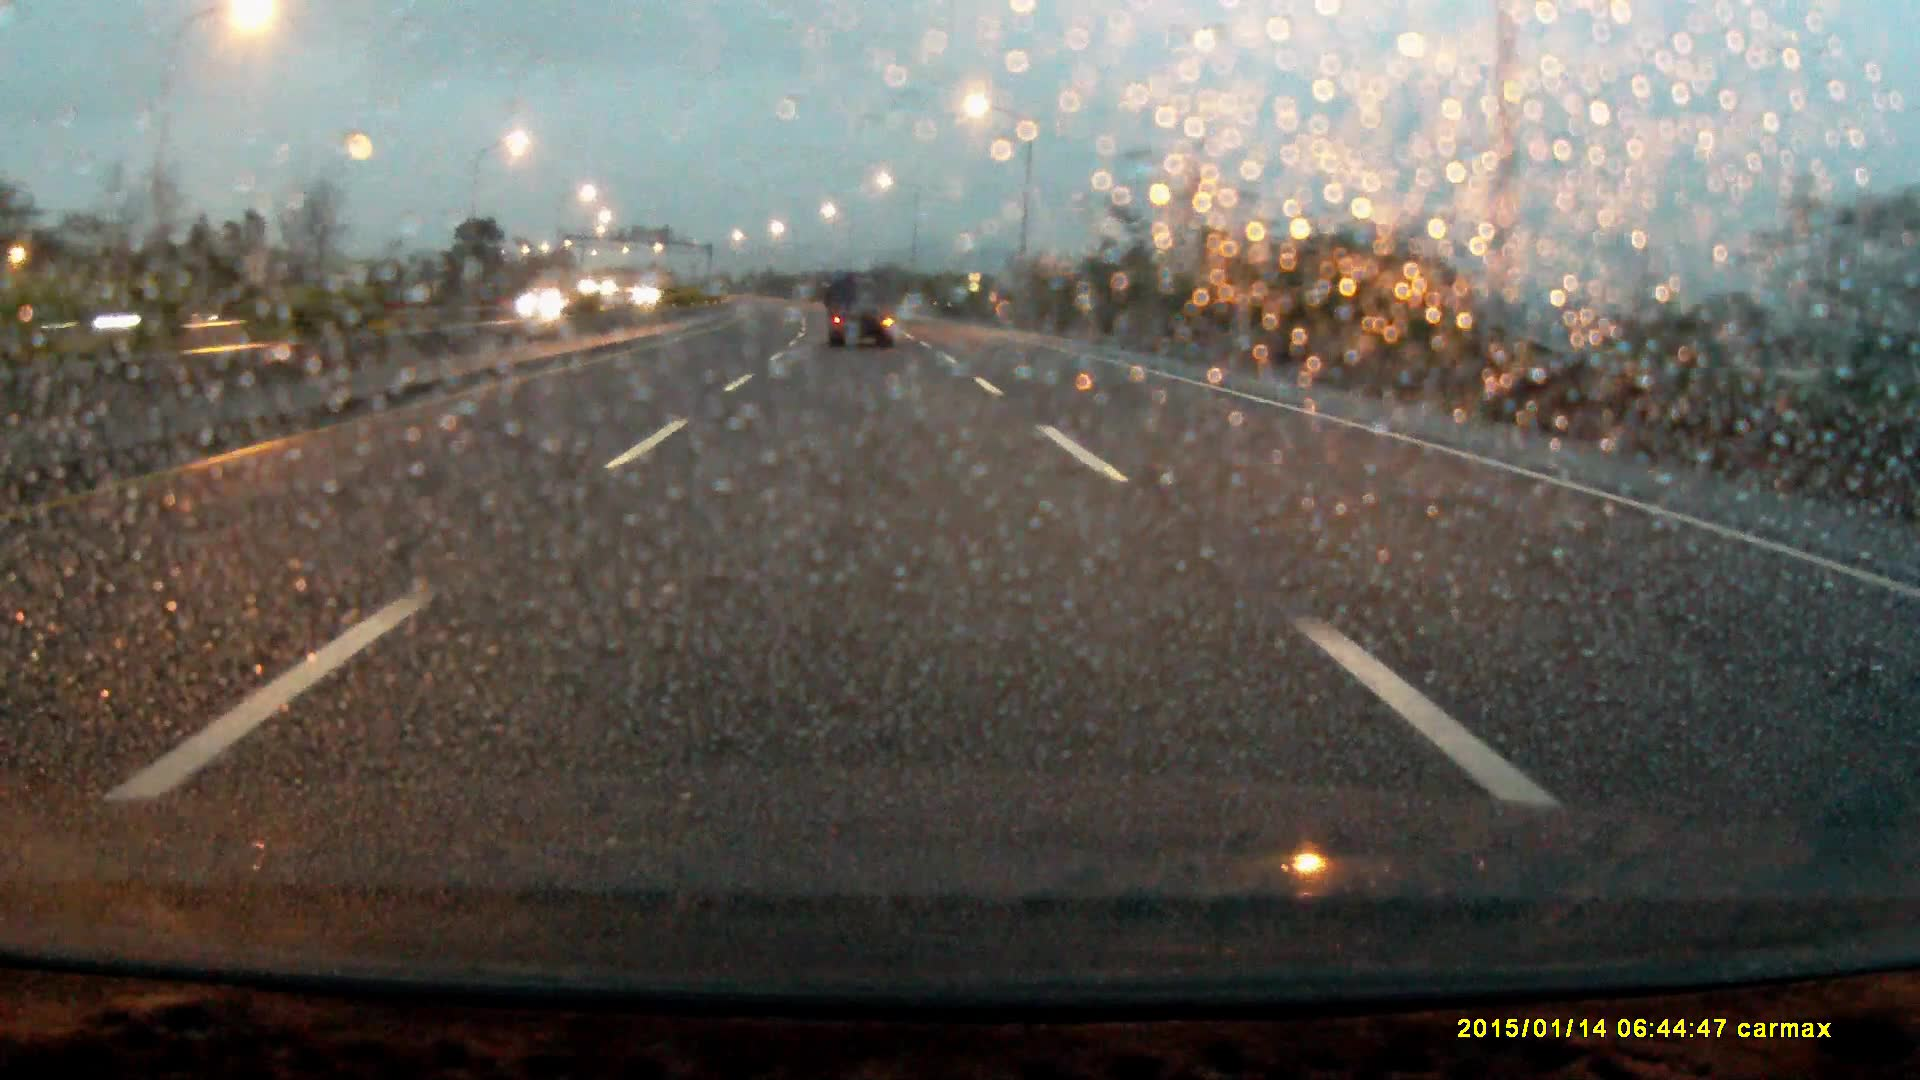vehicle: (829, 276, 895, 351), (520, 287, 584, 319)
